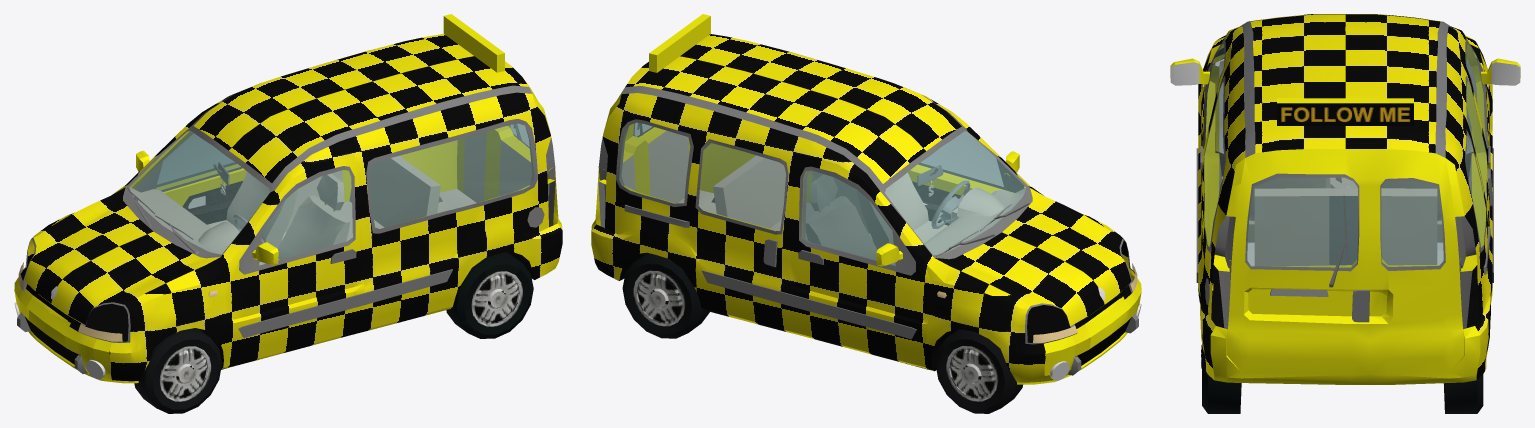
Rendered from followme.glb.
The picture shows the model from 3 angles, left to right: view 1: azimuth 30°, elevation 25°; view 2: azimuth 150°, elevation 25°; view 3: azimuth 270°, elevation 25°; orthographic projection. The views are drawn at different scales.
Parts seen in each view (by area): view 1: body, wheel_1, wheel_3; view 2: body, wheel_2, wheel_0, wheel_4; view 3: body, wheel_3, wheel_0.
Part boxes in pixels (box(x1,y1,x2,y2)): body: box(14, 14, 562, 383); wheel_1: box(134, 328, 221, 413); wheel_3: box(446, 252, 533, 338); body: box(591, 14, 1141, 384); wheel_2: box(935, 329, 1022, 413); wheel_0: box(622, 252, 709, 338); wheel_4: box(931, 180, 970, 228); body: box(1170, 14, 1520, 384); wheel_3: box(1201, 344, 1241, 413); wheel_0: box(1443, 374, 1483, 413).
Bounding box in the file's own units: 3.8 × 1.96 × 1.89.
19 materials, 9 textured.
